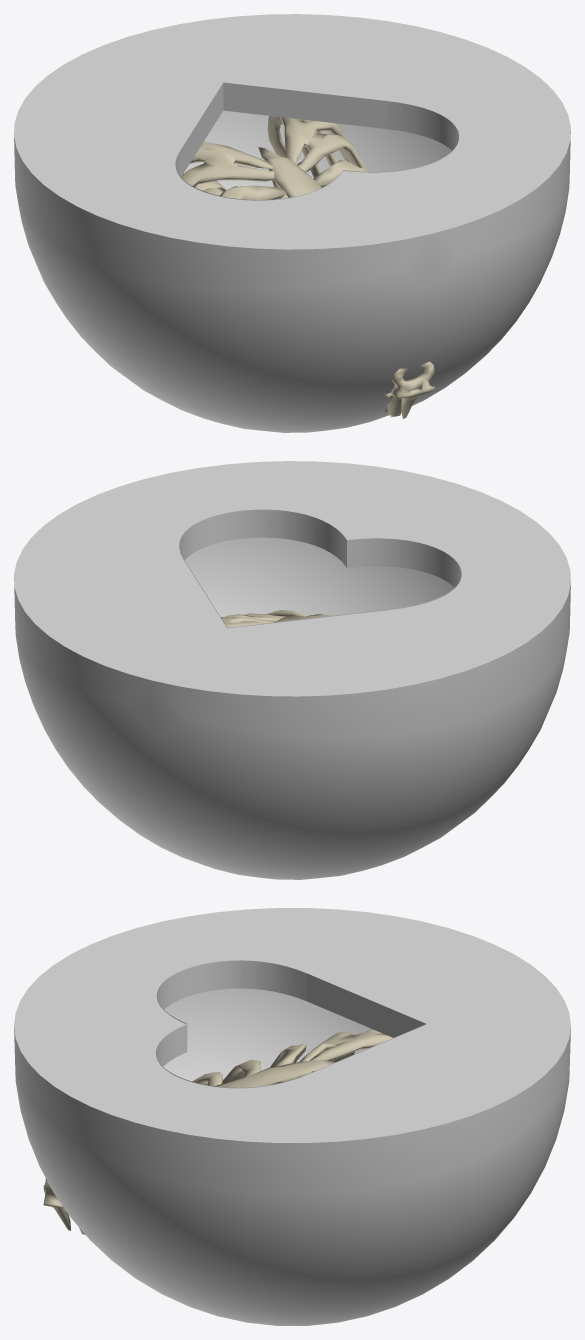
File: ribcageHeart11_idle.fbx
3 views of the same model, one above another, from view 1: azimuth 30°, elevation 25°; view 2: azimuth 150°, elevation 25°; view 3: azimuth 270°, elevation 25° (orthographic).
Visible parts, largest first — view 1: OuterCirdl_N, OuterCirdl_1, Path, InnerCirsle_N, 6_7_8_9_10_Ribs_LEFT, 6_7_8_9_10_Ribs_RIGHT, Vertebrae, sternum, InnerCirsle_1, 5th_Rib_RIGHT, 5th_Rib_LEFT; view 2: OuterCirdl_N, OuterCirdl_1, InnerCirsle_N, Path, InnerCirsle_1; view 3: OuterCirdl_N, OuterCirdl_1, InnerCirsle_N, Path, InnerCirsle_1, 6_7_8_9_10_Ribs_RIGHT, sternum.
Part boxes in pixels (left/top/right/bottom): OuterCirdl_N: left=14, top=14, right=570, bottom=432; OuterCirdl_1: left=14, top=14, right=570, bottom=431; Path: left=175, top=82, right=459, bottom=200; InnerCirsle_N: left=184, top=110, right=451, bottom=199; 6_7_8_9_10_Ribs_LEFT: left=267, top=116, right=368, bottom=187; 6_7_8_9_10_Ribs_RIGHT: left=181, top=141, right=274, bottom=187; Vertebrae: left=195, top=181, right=435, bottom=418; sternum: left=258, top=147, right=321, bottom=197; InnerCirsle_1: left=192, top=111, right=451, bottom=187; 5th_Rib_RIGHT: left=219, top=185, right=286, bottom=199; 5th_Rib_LEFT: left=313, top=160, right=367, bottom=187; OuterCirdl_N: left=14, top=461, right=570, bottom=879; OuterCirdl_1: left=15, top=461, right=569, bottom=879; InnerCirsle_N: left=185, top=537, right=454, bottom=616; Path: left=179, top=509, right=461, bottom=628; InnerCirsle_1: left=185, top=538, right=453, bottom=615; OuterCirdl_N: left=14, top=908, right=570, bottom=1325; OuterCirdl_1: left=15, top=908, right=569, bottom=1325; InnerCirsle_N: left=163, top=988, right=372, bottom=1084; Path: left=156, top=960, right=426, bottom=1088; InnerCirsle_1: left=165, top=989, right=367, bottom=1076; 6_7_8_9_10_Ribs_RIGHT: left=299, top=1029, right=392, bottom=1061; sternum: left=215, top=1059, right=336, bottom=1087.
Size of the model in its own units: 395 by 215 by 396.
